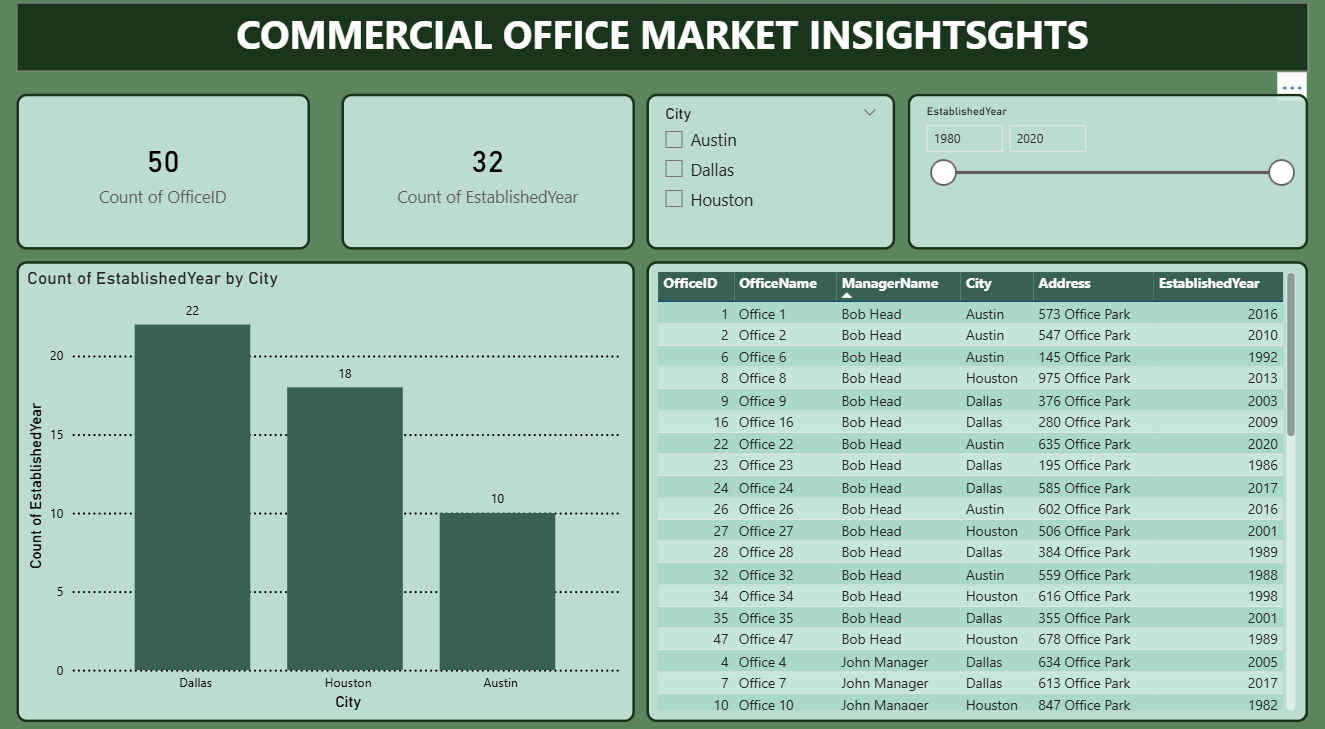

The page's visual inventory and layout, read from the dashboard file:
{"tool":"powerbi","page":{"name":"OFFICE","canvas":[1280,720],"ordinal":3},"visuals":[{"type":"card","fields":{"Values":["Count(Offices.OfficeID)"]},"box":[16.7,100,283.3,150],"z":0},{"type":"textbox","box":[16.7,11.7,1246.7,66.7],"z":1000},{"type":"card","fields":{"Values":["Count(Offices.EstablishedYear)"]},"box":[330,100,283.3,150],"z":2000},{"type":"columnChart","fields":{"Category":["Offices.City"],"Y":["CountNonNull(Offices.EstablishedYear)"]},"box":[16.7,261.7,596.7,445],"z":3000},{"type":"tableEx","fields":{"Values":["Offices.OfficeID","Offices.OfficeName","Offices.ManagerName","Offices.City","Offices.Address","Offices.EstablishedYear"]},"box":[625,261.7,638.3,445],"z":4000},{"type":"slicer","fields":{"Values":["Offices.City"]},"box":[625,100,240,150],"z":5000},{"type":"slicer","fields":{"Values":["Offices.EstablishedYear"]},"box":[876.7,100,386.7,150],"z":6000}]}

Visuals, with their boxes in screenshot pixels (x1, y1, x2, y2), scaled from the page's 1280x720 canvas onto the 1325x729 screenshot:
card - Count(Offices.OfficeID): 17 101 311 253
textbox: 17 12 1308 79
card - Count(Offices.EstablishedYear): 342 101 635 253
columnChart - Offices.City x CountNonNull(Offices.EstablishedYear): 17 265 635 716
tableEx - Offices.OfficeID x Offices.OfficeName: 647 265 1308 716
slicer - Offices.City: 647 101 895 253
slicer - Offices.EstablishedYear: 908 101 1308 253
